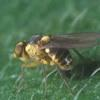Trifoli: (7, 30, 96, 79)
